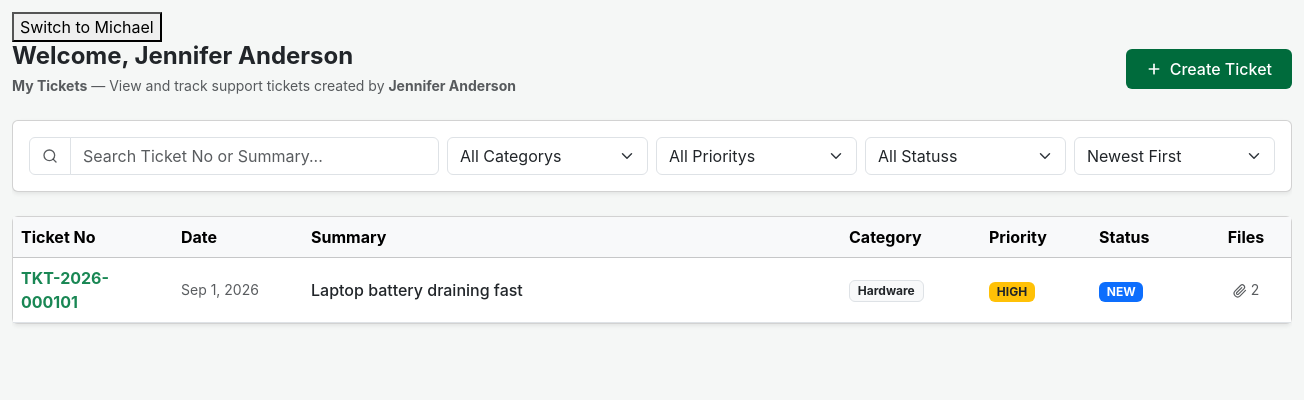
Scenario: MyTicketsView Component (Issue 11) › handles category load error gracefully and recovers data upon clicking Retry Categories
The width and height of the screenshot is (1304, 400).
Click category filter button to trigger lazy fetch
Click the button with test id "category-filter-btn". click: x=548, y=156
box: [447,137,648,175]
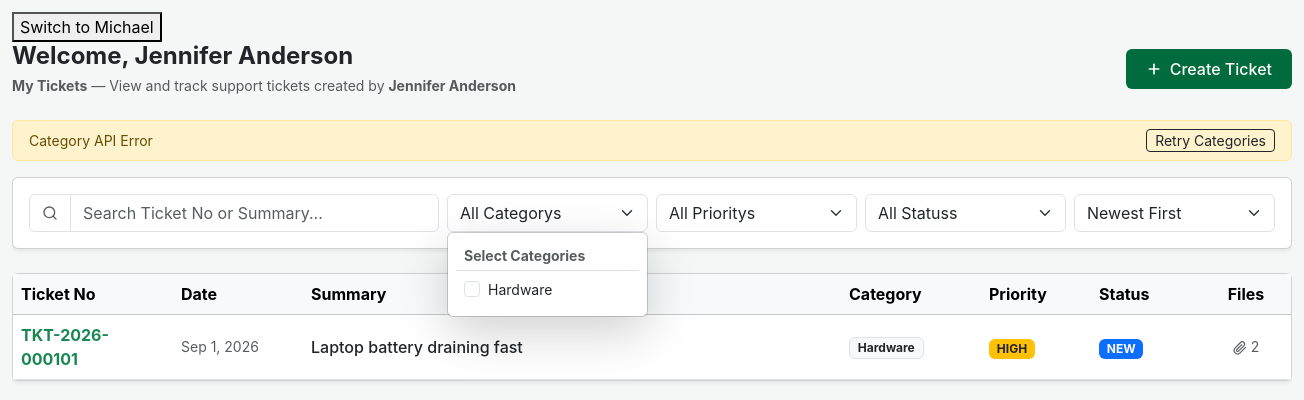
Expected: the element with test id "category-load-error" is shown, [12,120,1292,161]
Expected: the text "Category API Error" is shown, [29,130,153,151]
Click the button "Retry Categories". click: x=1211, y=140
box: [1146,129,1275,152]
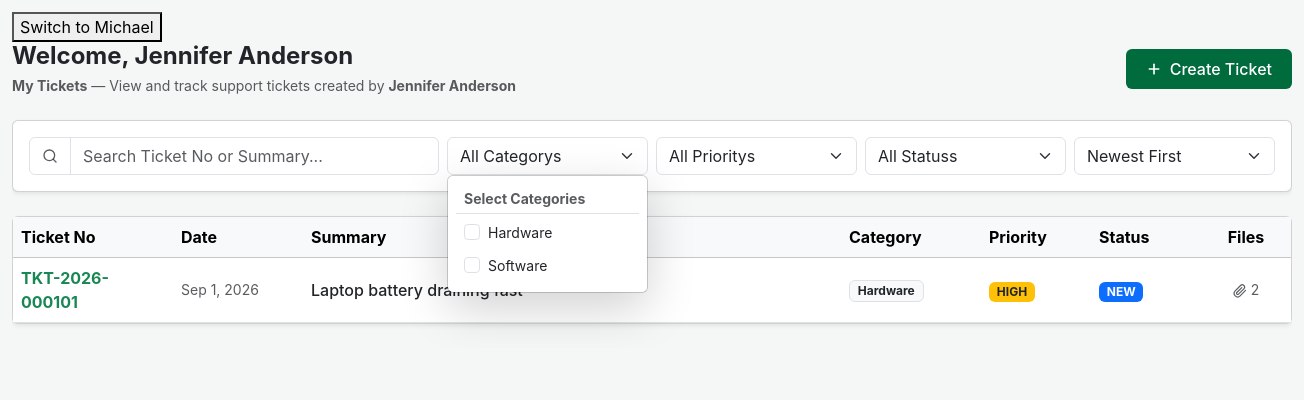
Expected: the element with test id "category-load-error" is gone
